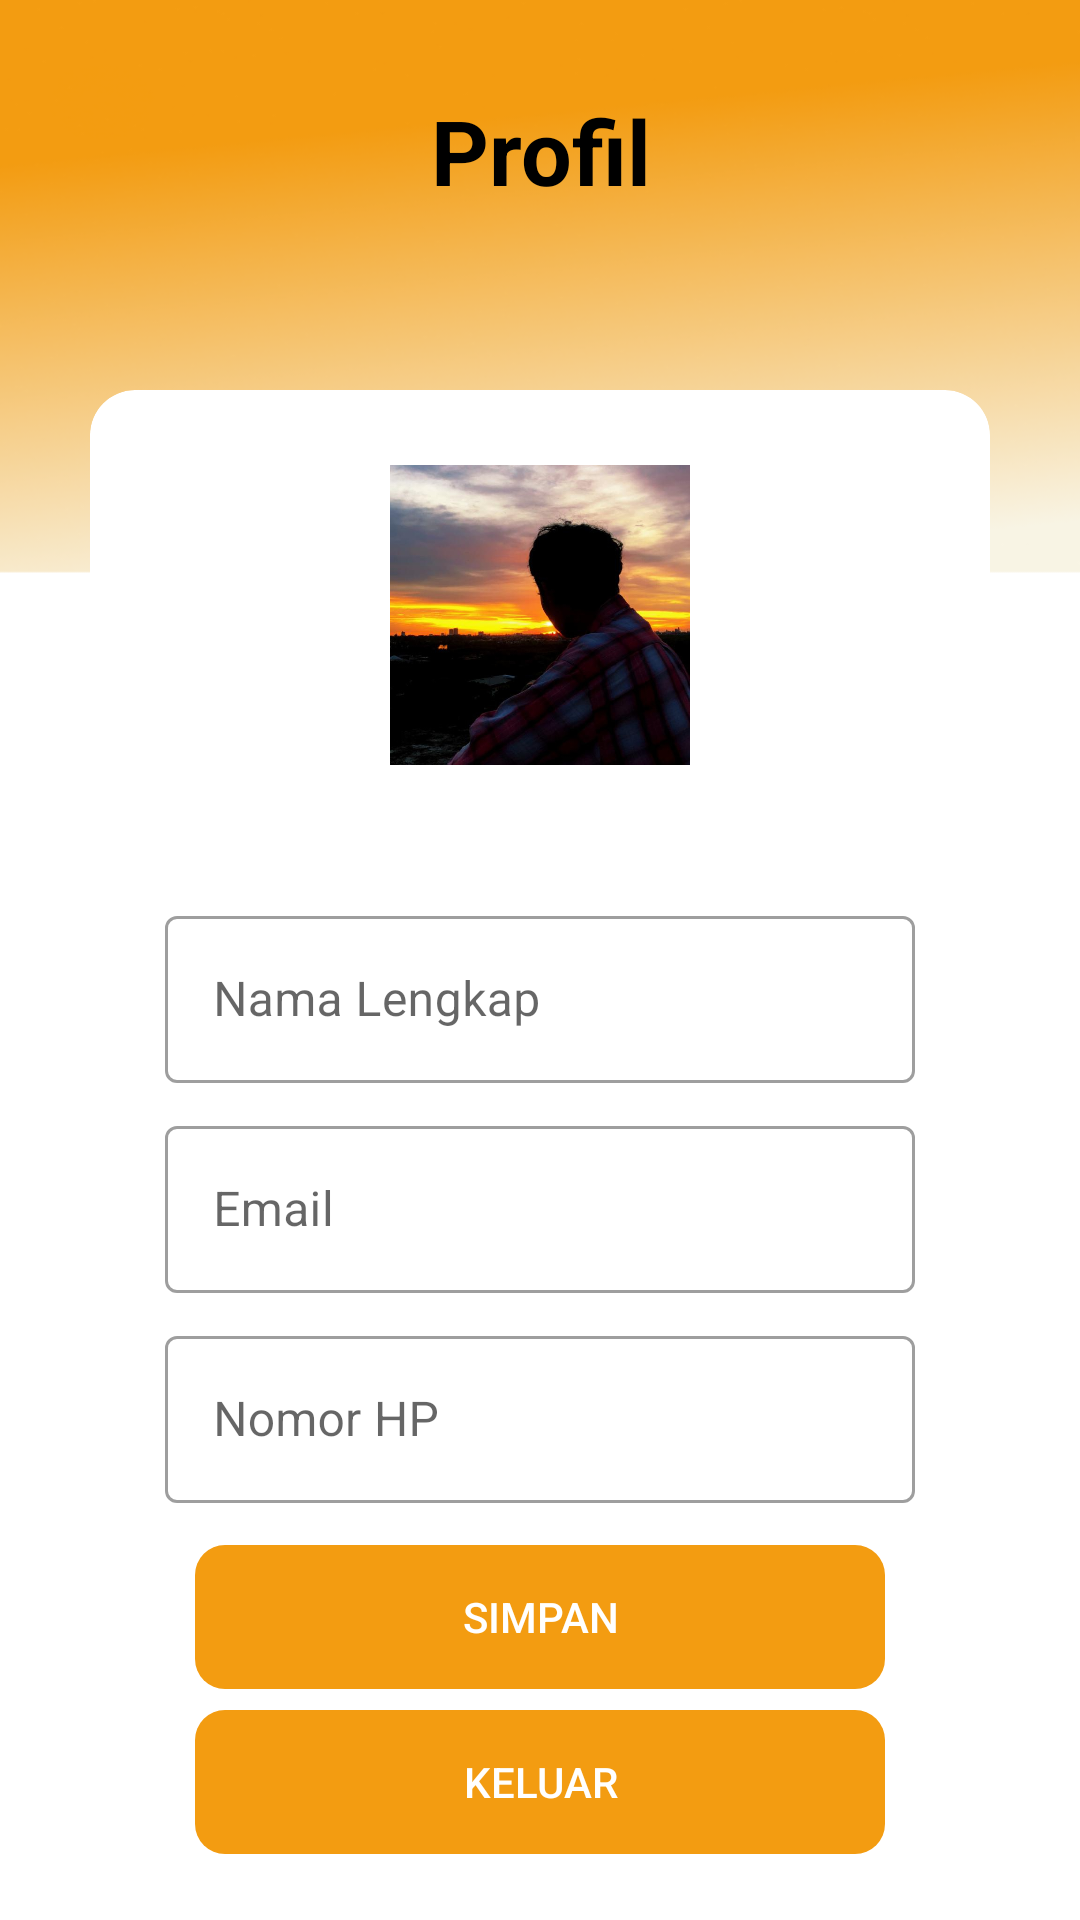

Icons on this 1080px×1920px Android screen, each with its box as (x1, y1, x2, y2):
saya: (390, 465, 690, 765)
